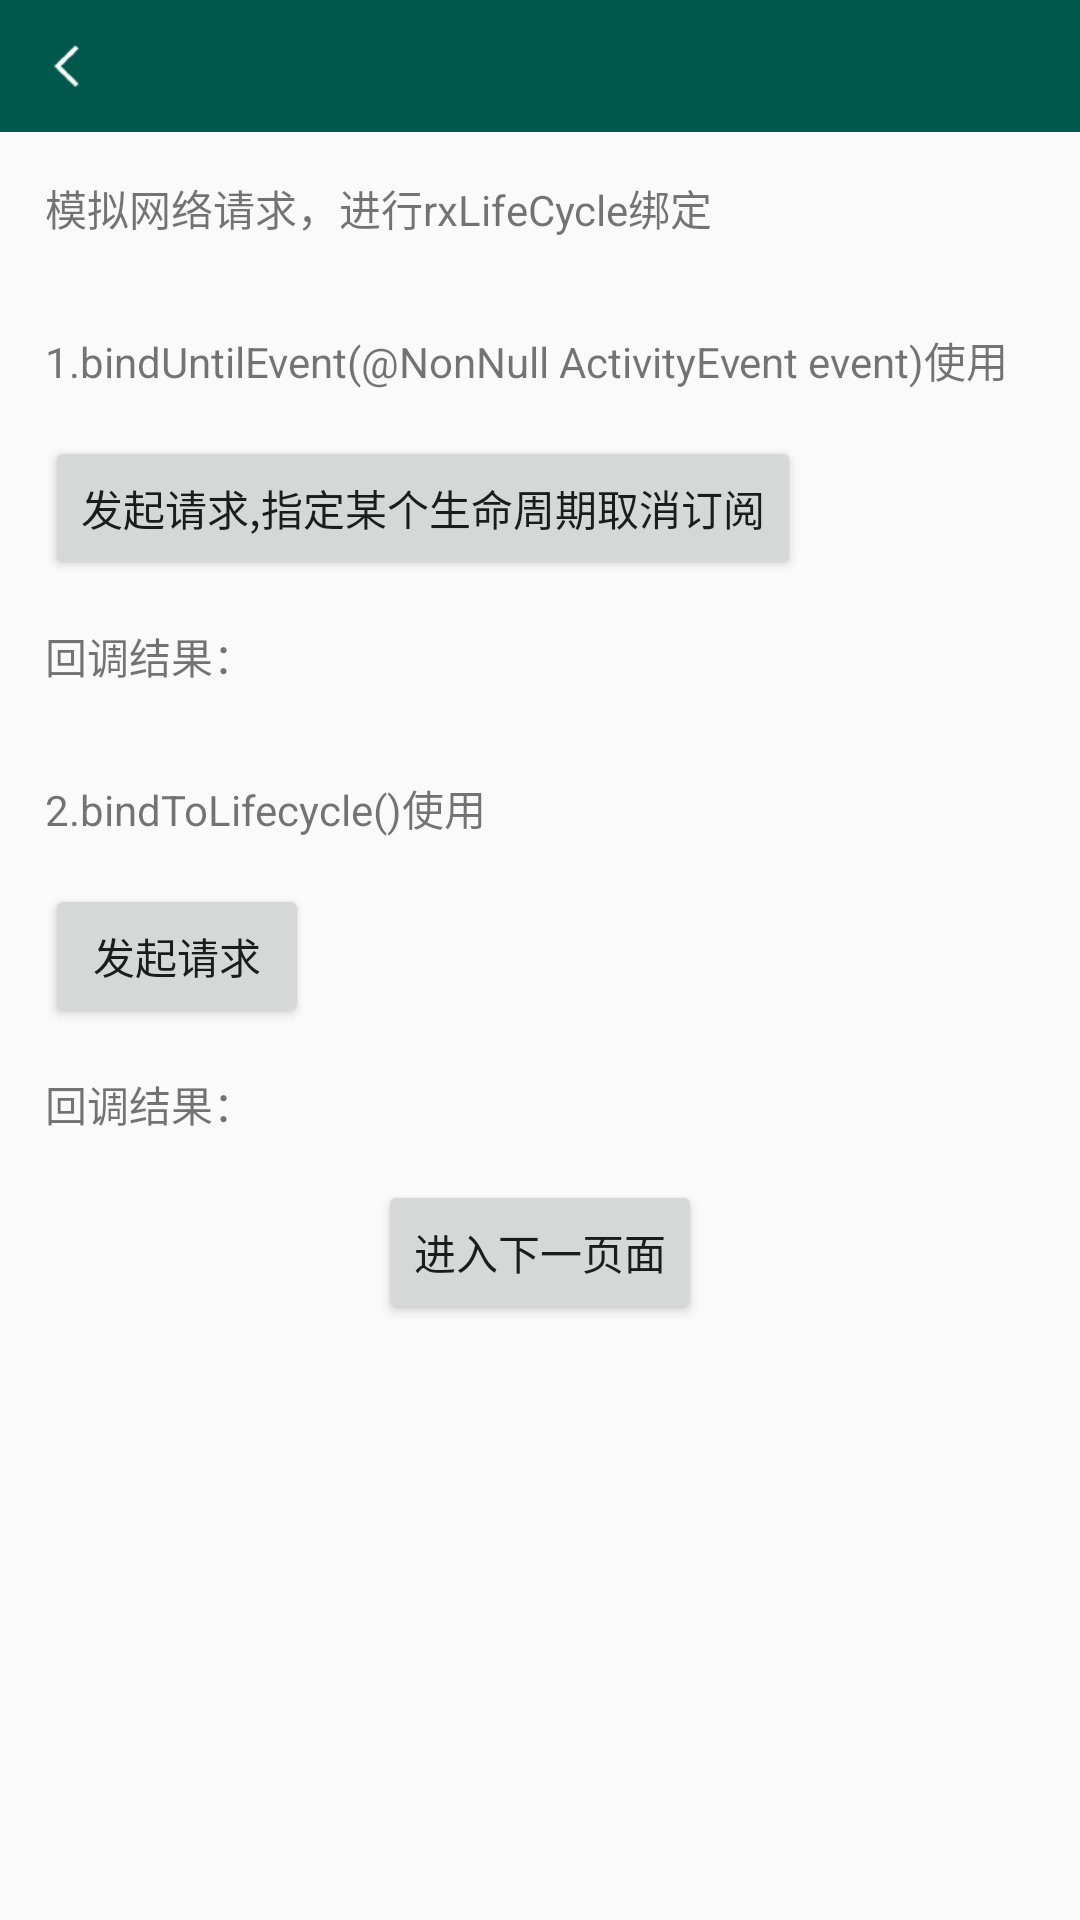

Locate icon controls on the screen. Image size 1080x1920, boxes as (x1, y1, x2, y2).
back: (54, 45, 79, 87)
